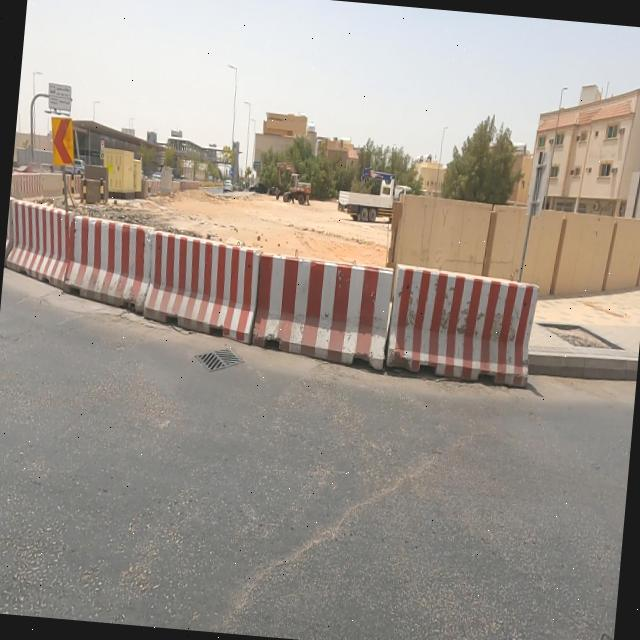Graffiti: (437, 204, 451, 228)
